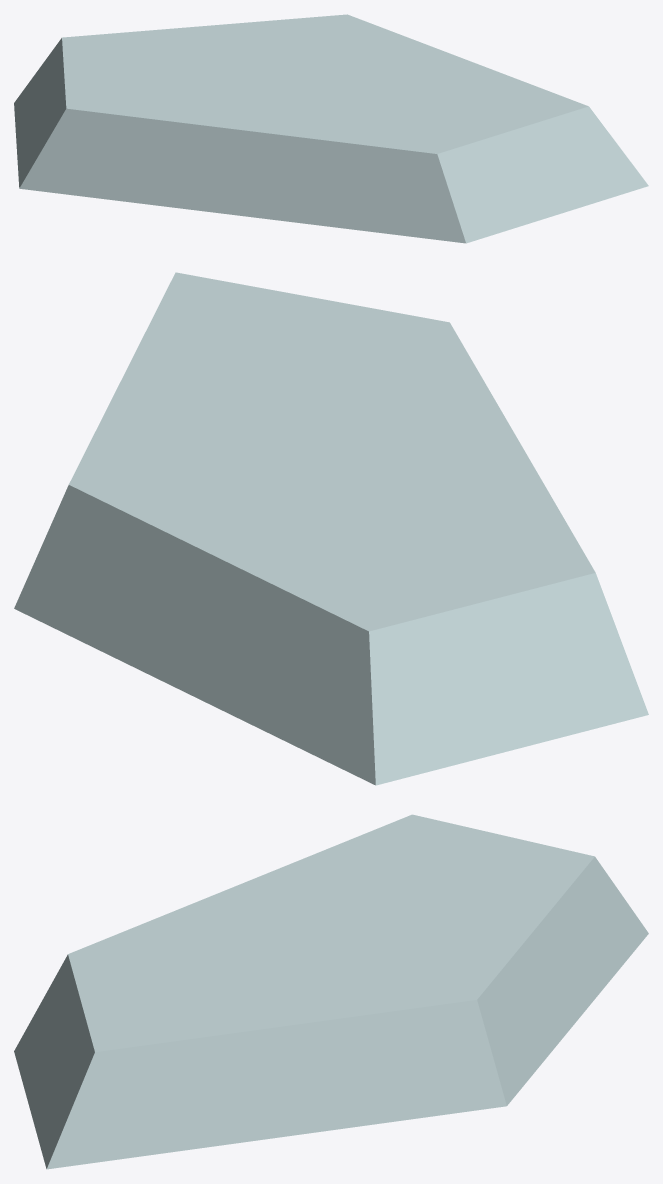
The model's file is stone_smallFlatB.glb.
3 renders of one model, top to bottom at view 1: azimuth 30°, elevation 25°; view 2: azimuth 150°, elevation 25°; view 3: azimuth 270°, elevation 25°, orthographic. The views are drawn at different scales.
Visible parts, largest first — view 1: stone; view 2: stone; view 3: stone.
Part boxes in pixels (<box>): stone: <box>14,14,648,243</box>; stone: <box>14,272,648,785</box>; stone: <box>14,814,648,1169</box>.
Size of the model in its own units: 0.4295 by 0.0649 by 0.4024.
